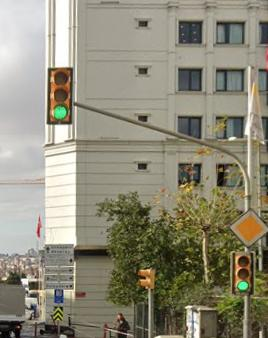greenlight: (48, 69, 73, 120), (233, 252, 251, 292)
